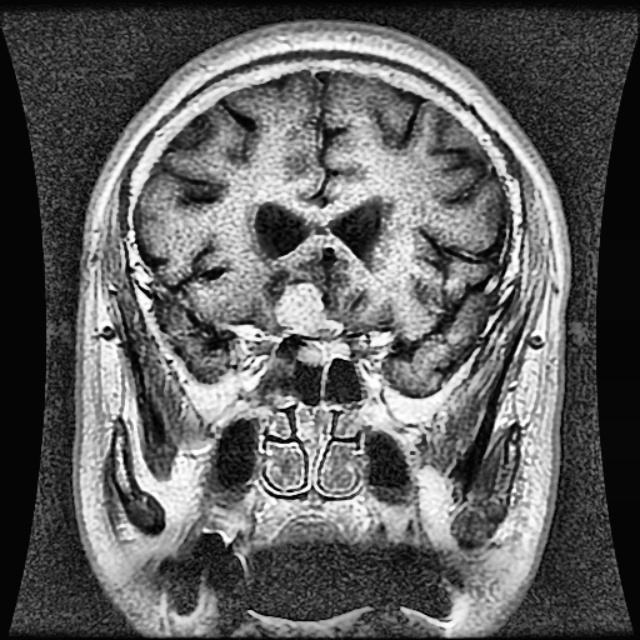Pituitary: (273, 283, 343, 362)
